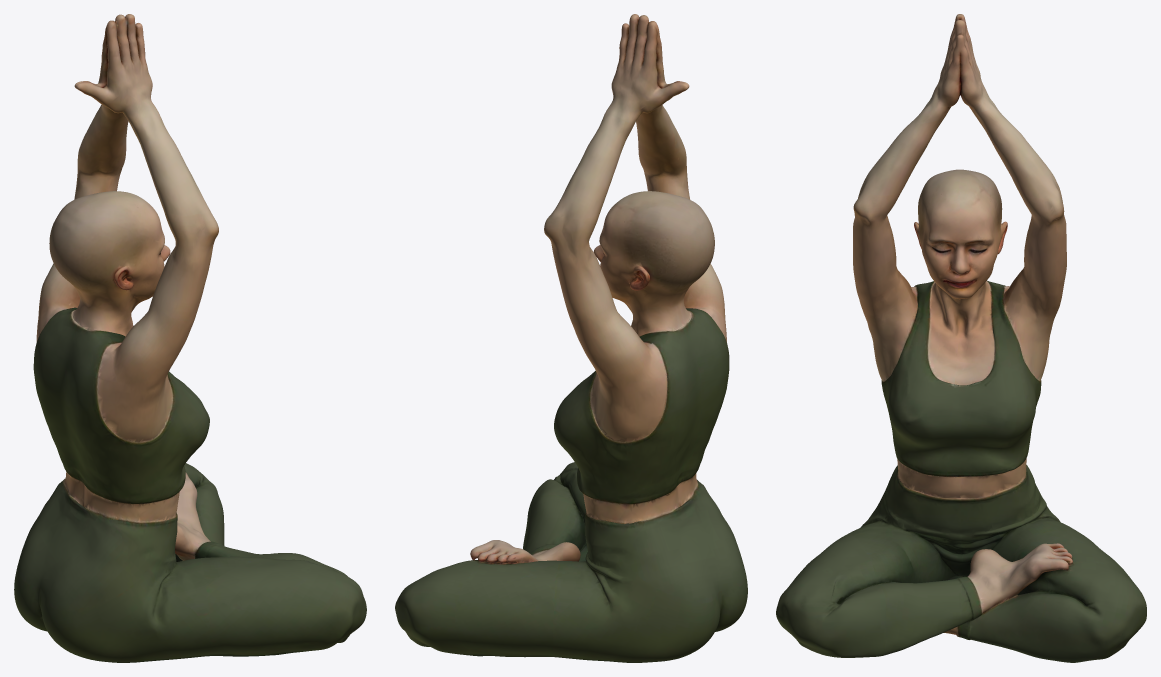
File: woman_in_lotus_pose.glb
3 views of the same model, side by side, from view 1: azimuth 30°, elevation 25°; view 2: azimuth 150°, elevation 25°; view 3: azimuth 270°, elevation 25° (orthographic). The views are drawn at different scales.
Parts seen in each view (by area): view 1: aiprintgen_node_7417a46f-56e9-4ca8-87dc-49546ad4bb02; view 2: aiprintgen_node_7417a46f-56e9-4ca8-87dc-49546ad4bb02; view 3: aiprintgen_node_7417a46f-56e9-4ca8-87dc-49546ad4bb02.
Part boxes in pixels (left/top/right/bottom): aiprintgen_node_7417a46f-56e9-4ca8-87dc-49546ad4bb02: left=14, top=14, right=366, bottom=662; aiprintgen_node_7417a46f-56e9-4ca8-87dc-49546ad4bb02: left=395, top=14, right=747, bottom=662; aiprintgen_node_7417a46f-56e9-4ca8-87dc-49546ad4bb02: left=776, top=14, right=1146, bottom=662.
Bounding box in the file's own units: 0.4383 × 1 × 0.5805.
Materials: 1 (1 with a texture image).
